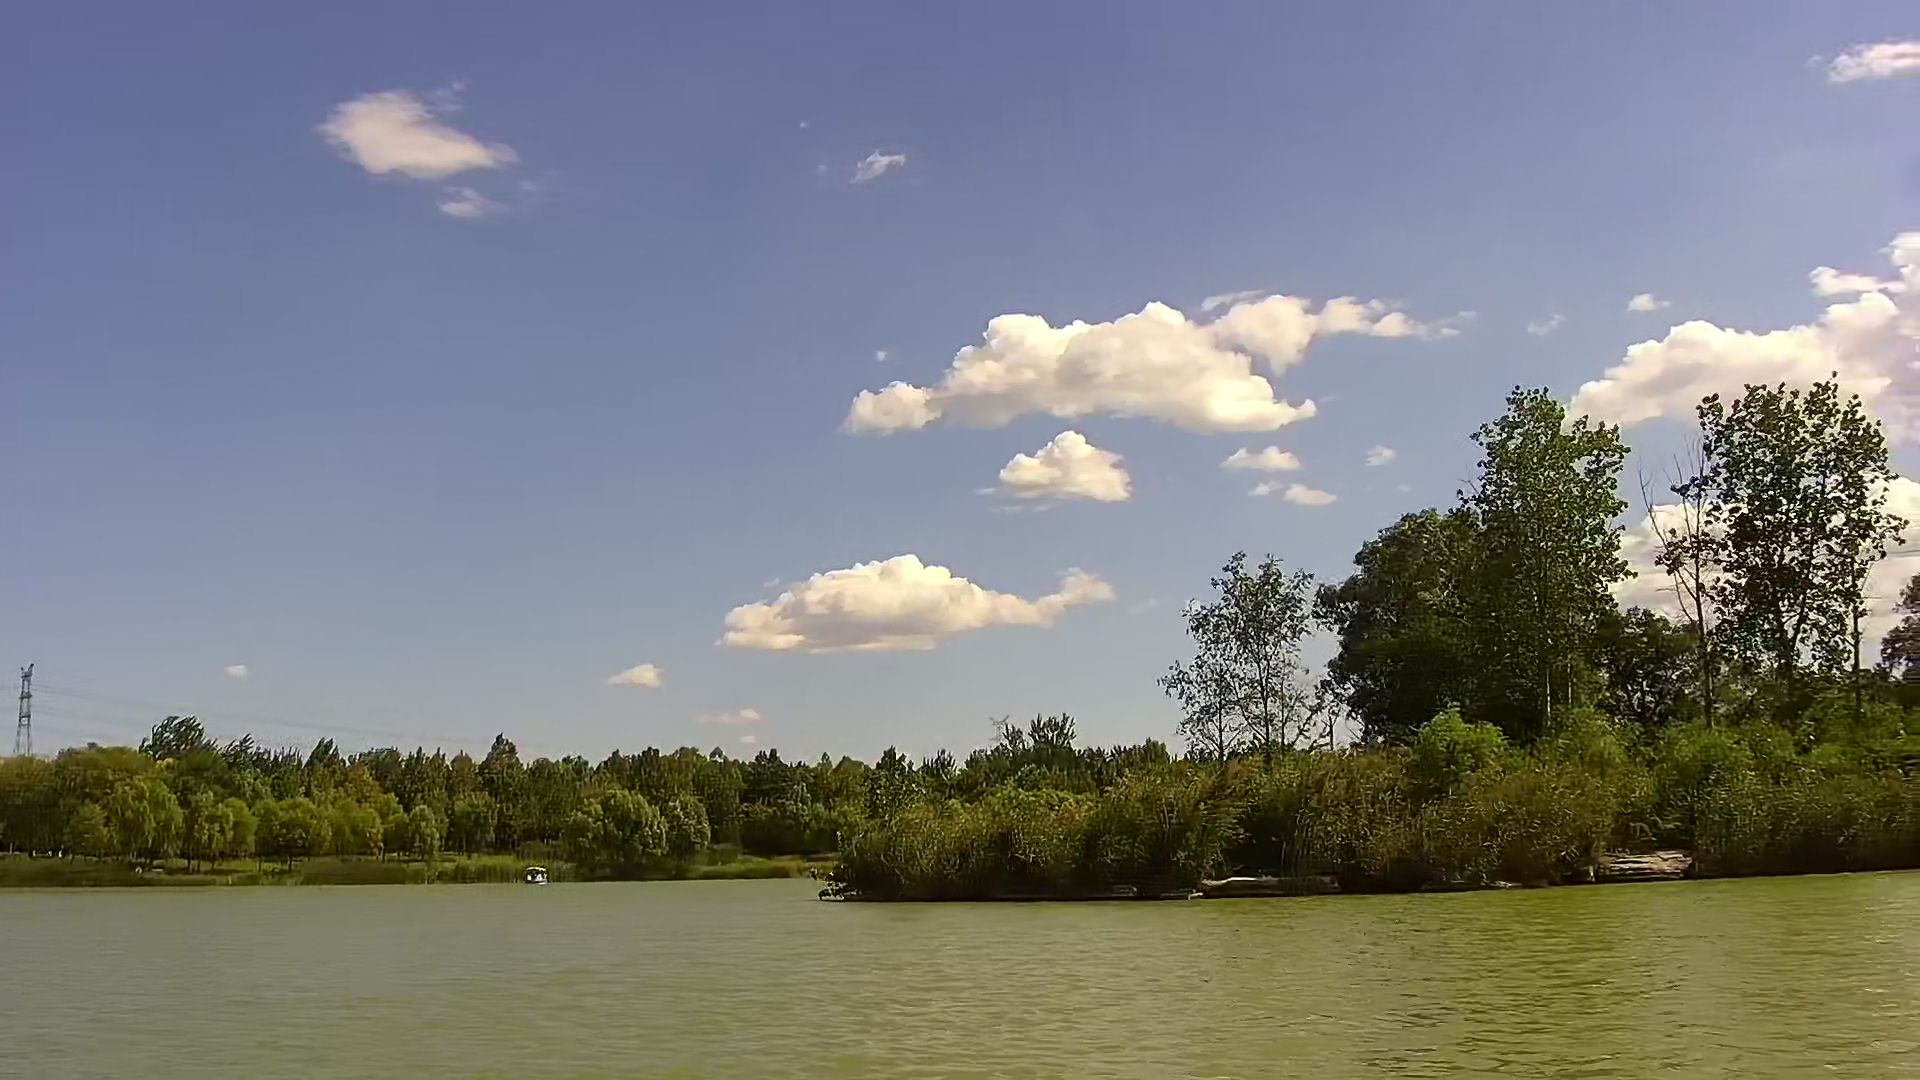boat: (524, 865, 550, 884)
